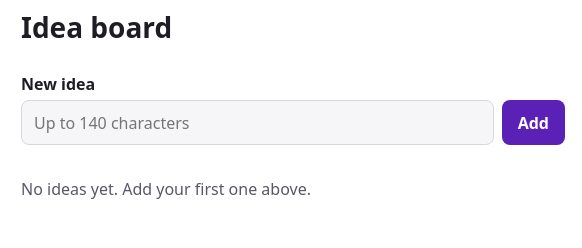
Test: IdeaBoard › shows the empty state again after the last idea is deleted
Type "Only one" into the field labelled "New idea" at x=257, y=123, box [21, 100, 494, 145]
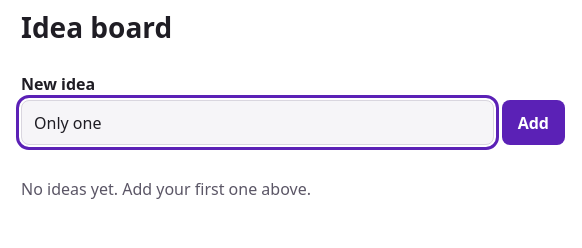
Click the button "Add" at x=533, y=123, box [502, 100, 565, 145]
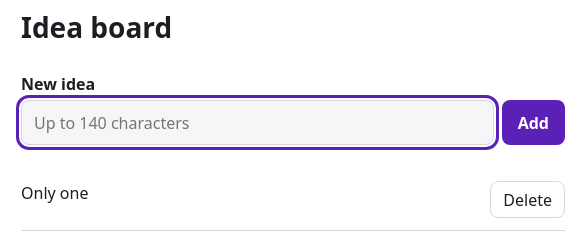
Click the button with aria-label "Delete idea: Only one" at x=528, y=200, box [490, 181, 565, 218]
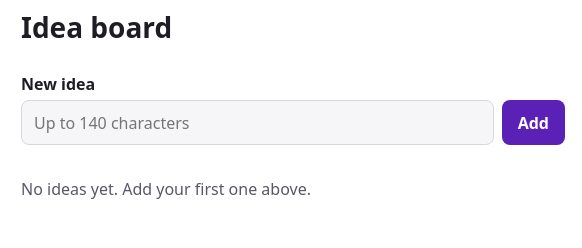
Expected: the text "No ideas yet. Add your first one above." is shown, [21, 178, 311, 200]
